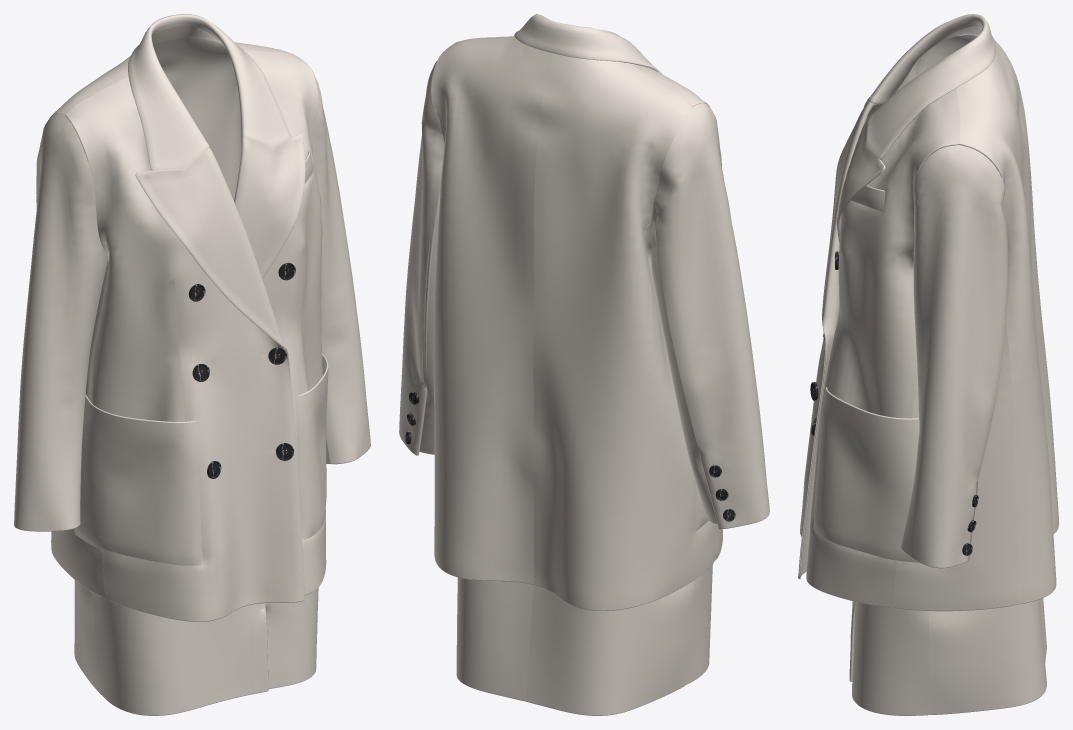
File: beige_business_suit_with_short_skirt.glb
3 views of the same model, side by side, from view 1: azimuth 30°, elevation 25°; view 2: azimuth 150°, elevation 25°; view 3: azimuth 270°, elevation 25° (orthographic). The views are drawn at different scales.
Parts seen in each view (by area): view 1: Object_14, Object_19, Object_18, Object_15, Object_16, Object_21, Object_13, Object_20, Object_17, Object_24; view 2: Object_21, Object_20, Object_19, Object_17, Object_13, Object_18, Object_15, Object_14; view 3: Object_21, Object_20, Object_16, Object_18, Object_17, Object_15, Object_13, Object_14, Object_19.
Boxes of the visible parts, x1,y1,x2,y2 form: Object_14: (64, 76, 304, 621); Object_19: (14, 112, 107, 694); Object_18: (74, 151, 328, 565); Object_15: (93, 587, 318, 715); Object_16: (234, 50, 326, 595); Object_21: (51, 41, 370, 549); Object_13: (128, 14, 291, 170); Object_20: (160, 36, 297, 200); Object_17: (51, 25, 329, 597); Object_24: (188, 262, 295, 478); Object_21: (399, 53, 691, 611); Object_20: (430, 36, 552, 701); Object_19: (525, 103, 769, 715); Object_17: (419, 51, 716, 603); Object_13: (514, 14, 661, 73); Object_18: (650, 200, 717, 530); Object_15: (685, 564, 712, 685); Object_14: (629, 63, 722, 559); Object_21: (901, 34, 1058, 568); Object_20: (928, 54, 1056, 714); Object_16: (806, 88, 960, 607); Object_18: (813, 185, 919, 562); Object_17: (893, 26, 1017, 611); Object_15: (849, 601, 929, 715); Object_13: (865, 14, 995, 159); Object_14: (798, 58, 919, 578); Object_19: (917, 34, 1046, 662).
Size of the model in its own units: 537 by 926 by 340.
Materials: 15 (3 with a texture image).
